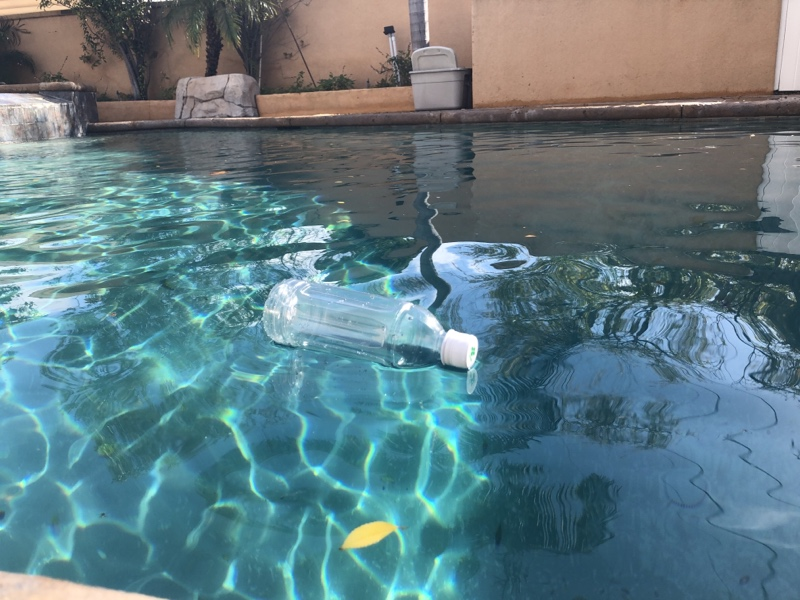Plastic Bottle: (260, 274, 481, 378)
